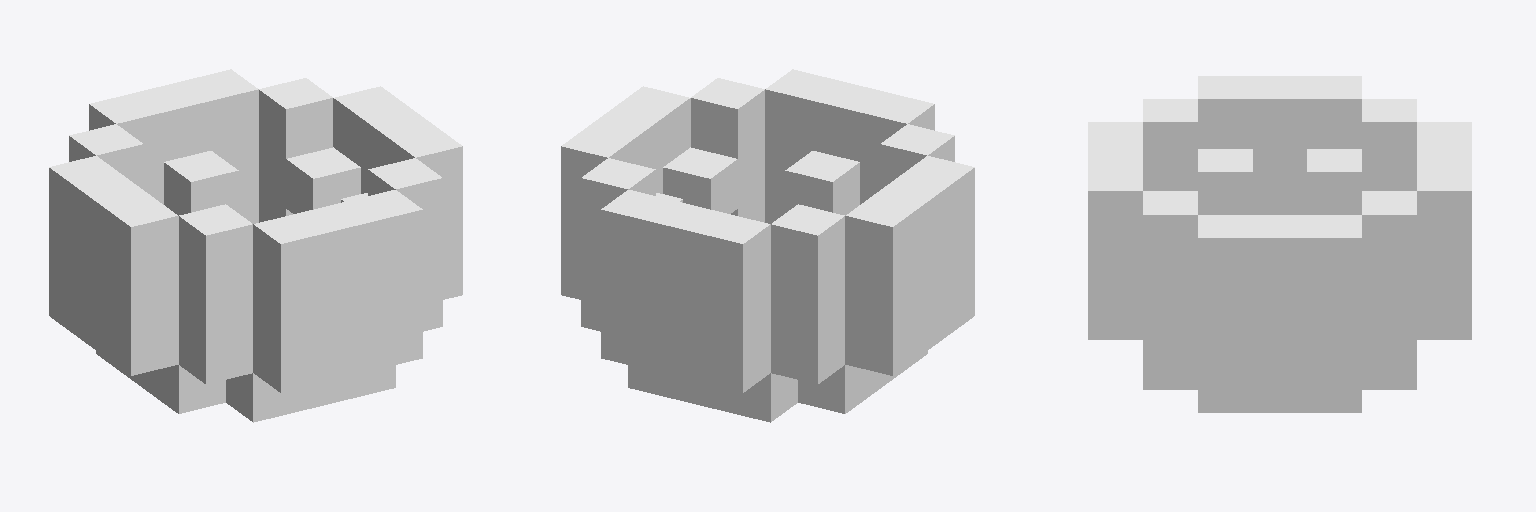
Rendered from Prototype_1_for_animation-0.obj.
3 renders of one model, left to right at view 1: azimuth 30°, elevation 25°; view 2: azimuth 150°, elevation 25°; view 3: azimuth 270°, elevation 25°, orthographic.
Parts seen in each view (by area): view 1: object 1; view 2: object 1; view 3: object 1.
Boxes of the visible parts, x1,y1,x2,y2 form: object 1: [49, 69, 462, 422]; object 1: [561, 69, 974, 422]; object 1: [1088, 76, 1471, 412].
Size of the model in its own units: 0.7 by 0.4 by 0.7.